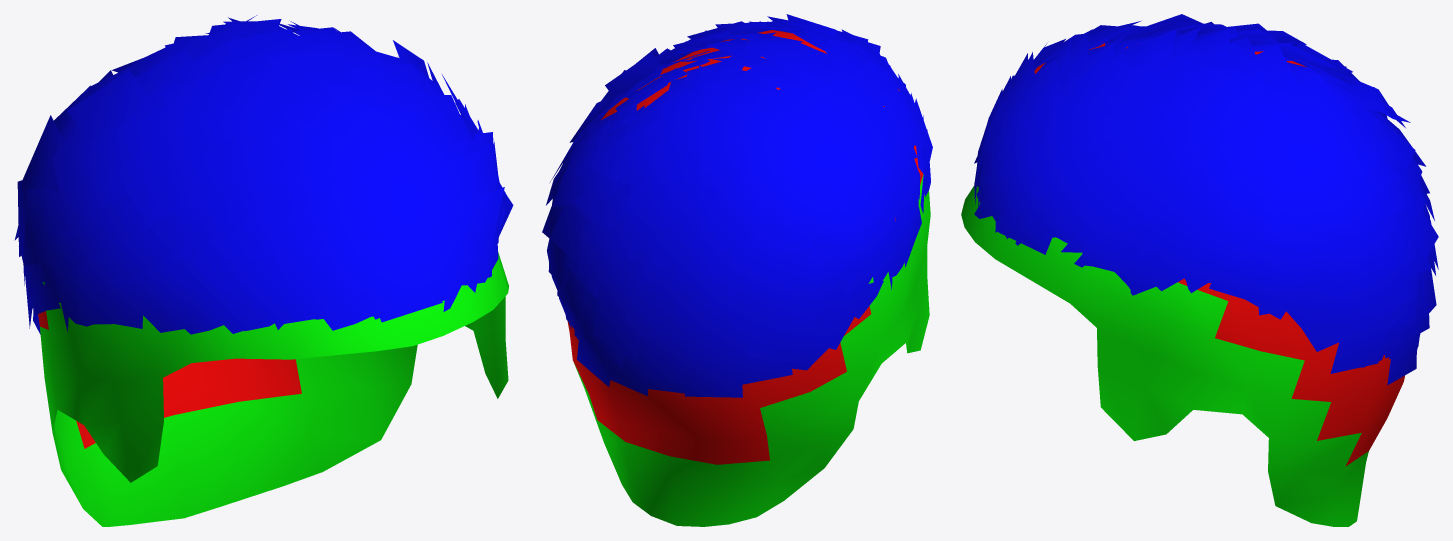
The model's file is hair_003.obj.
3 renders of one model, left to right at view 1: azimuth 30°, elevation 25°; view 2: azimuth 150°, elevation 25°; view 3: azimuth 270°, elevation 25°, orthographic. The views are drawn at different scales.
Bounding box in the file's own units: 15.84 × 20.6 × 18.91.
